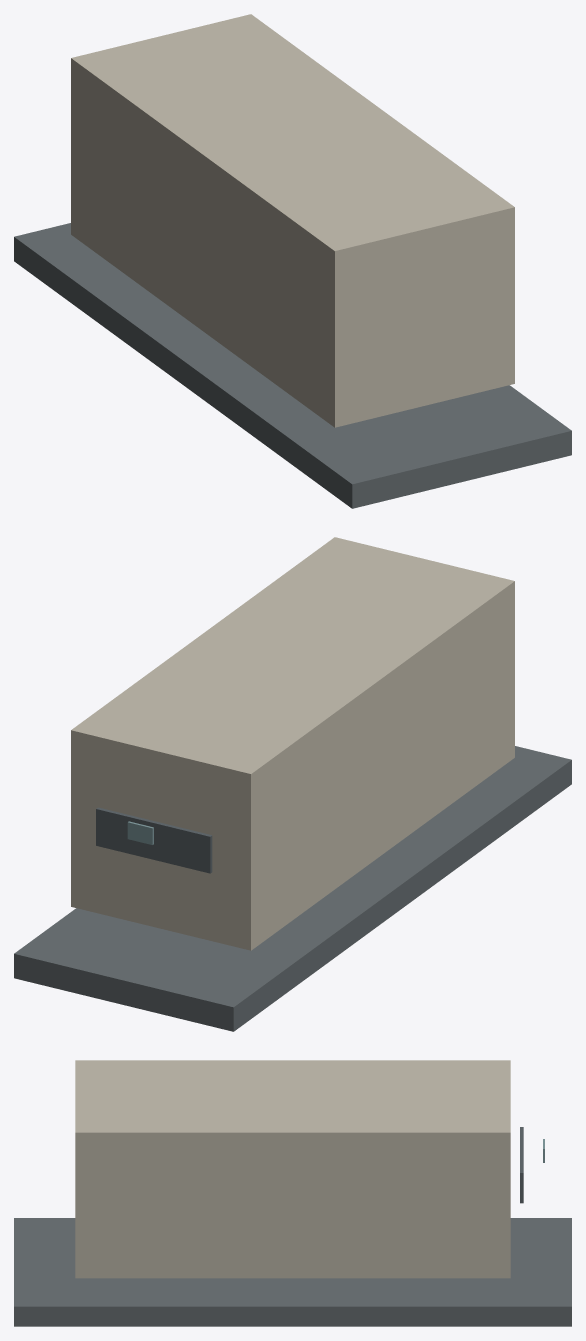
Rendered from iz3_school_hall_01.glb.
The picture shows the model from 3 angles, top to bottom: view 1: azimuth 30°, elevation 25°; view 2: azimuth 150°, elevation 25°; view 3: azimuth 270°, elevation 25°; orthographic projection. The views are drawn at different scales.
Visible parts, largest first — view 1: cabinet, base; view 2: cabinet, base, panel; view 3: cabinet, base.
Boxes of the visible parts, x1,y1,x2,y2 form: cabinet: (71, 14, 514, 427); base: (14, 223, 571, 508); cabinet: (71, 537, 514, 950); base: (14, 746, 571, 1031); panel: (96, 807, 212, 873); cabinet: (75, 1060, 510, 1278); base: (14, 1218, 571, 1326).
Bounding box in the file's own units: 3 × 2.94 × 8.
